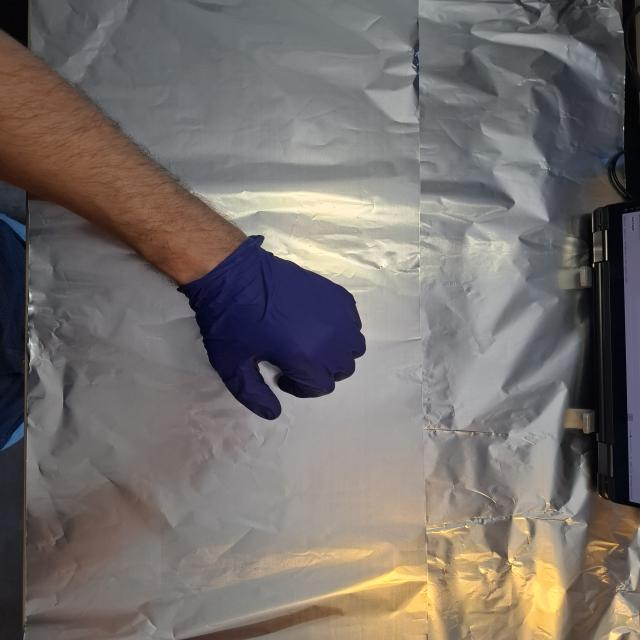glove_on: (178, 234, 370, 422)
